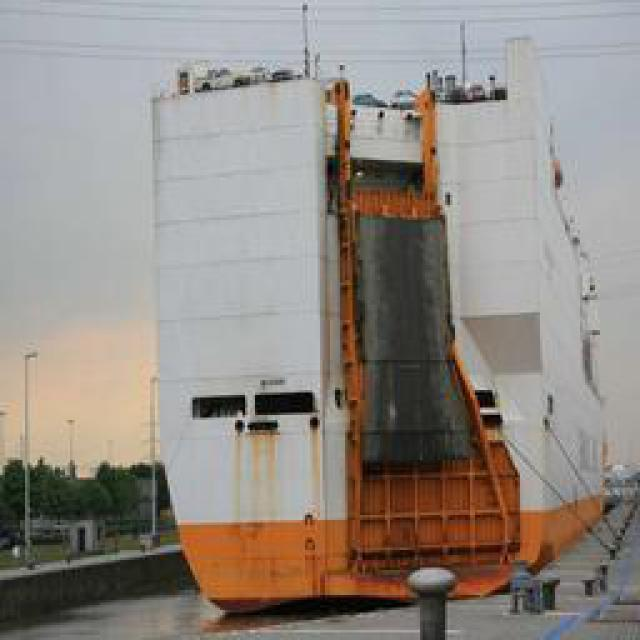Ship: (145, 31, 627, 613)
